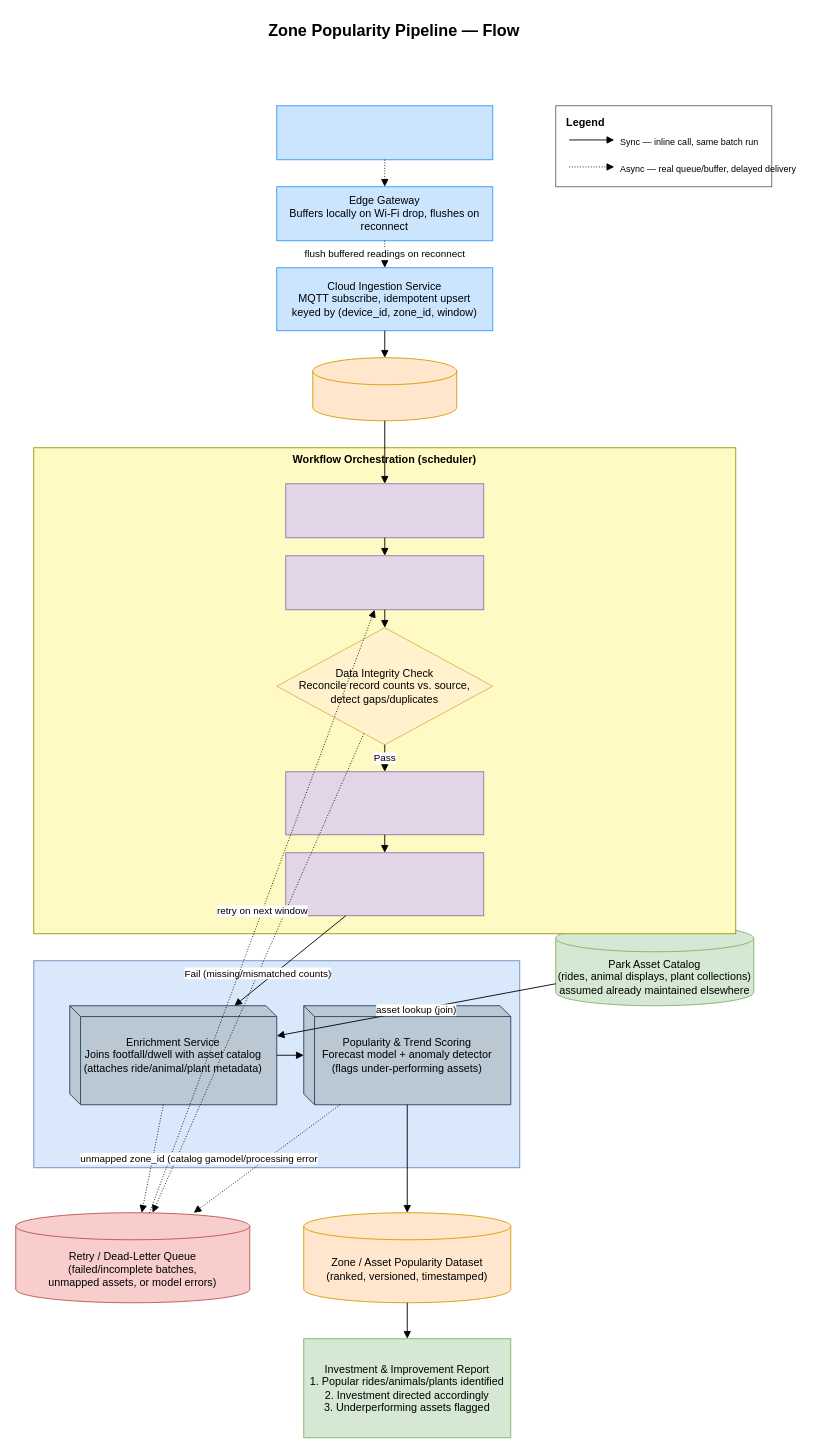
Some shapes in this 813 by 1454 pixel diagram are drawn without their labels. The shapes that lost their labels are listed below. From the top down, each one's centre as x and y in pixels, then its label:
point 384,132: Zone Sensors & Cameras (MQTT) Entry/exit + presence pings per zone
point 384,389: Raw Telemetry Store (zone visit counts, dwell events)
point 384,510: Scheduled Trigger (hourly / nightly batch window)
point 384,582: Extract Job Pull raw counts + timestamps + zone_id
point 384,803: Clean & Filter Drop malformed rows, dedupe, normalize timestamps/zone IDs
point 384,884: Group & Aggregate Footfall sum + dwell-time estimate per zone per window
